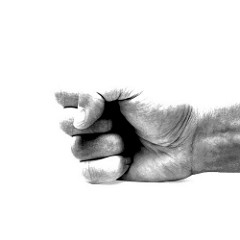fist: (57, 76, 206, 191)
